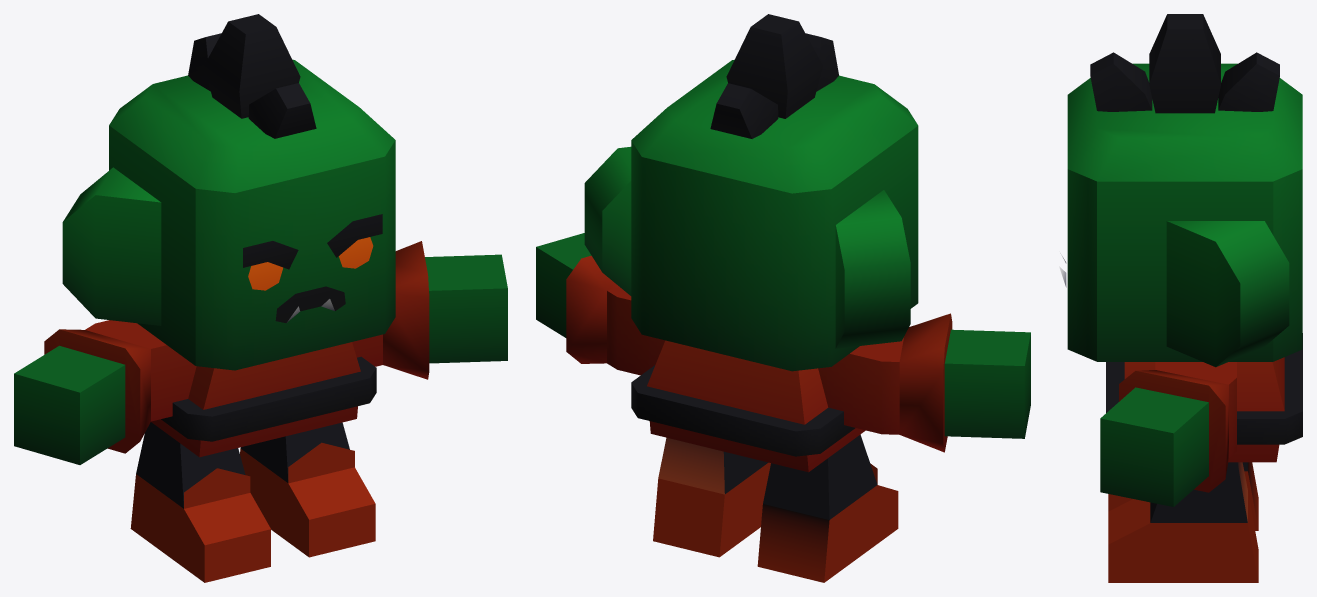
File: character-orc.fbx
3 renders of one model, left to right at view 1: azimuth 30°, elevation 25°; view 2: azimuth 150°, elevation 25°; view 3: azimuth 270°, elevation 25°, orthographic.
Parts seen in each view (by area): view 1: head, arm-right, body, leg-right, arm-left, leg-left; view 2: head, arm-right, body, leg-right, leg-left, arm-left; view 3: head, arm-left, leg-left, body, leg-right.
Part boxes in pixels (bbox=[...]): head: bbox=[62, 14, 395, 370]; arm-right: bbox=[14, 320, 196, 464]; body: bbox=[151, 342, 376, 457]; leg-right: bbox=[130, 422, 270, 582]; arm-left: bbox=[352, 241, 507, 379]; leg-left: bbox=[240, 422, 375, 557]; head: bbox=[584, 14, 918, 371]; arm-right: bbox=[818, 313, 1030, 452]; body: bbox=[631, 340, 865, 472]; leg-right: bbox=[757, 434, 898, 582]; leg-left: bbox=[653, 437, 770, 557]; arm-left: bbox=[536, 233, 665, 375]; head: bbox=[1059, 14, 1302, 367]; arm-left: bbox=[1100, 362, 1236, 506]; leg-left: bbox=[1108, 462, 1258, 582]; body: bbox=[1106, 333, 1302, 462]; leg-right: bbox=[1108, 462, 1258, 530].
Bounding box in the file's own units: 7.81 × 7.8 × 3.32.
